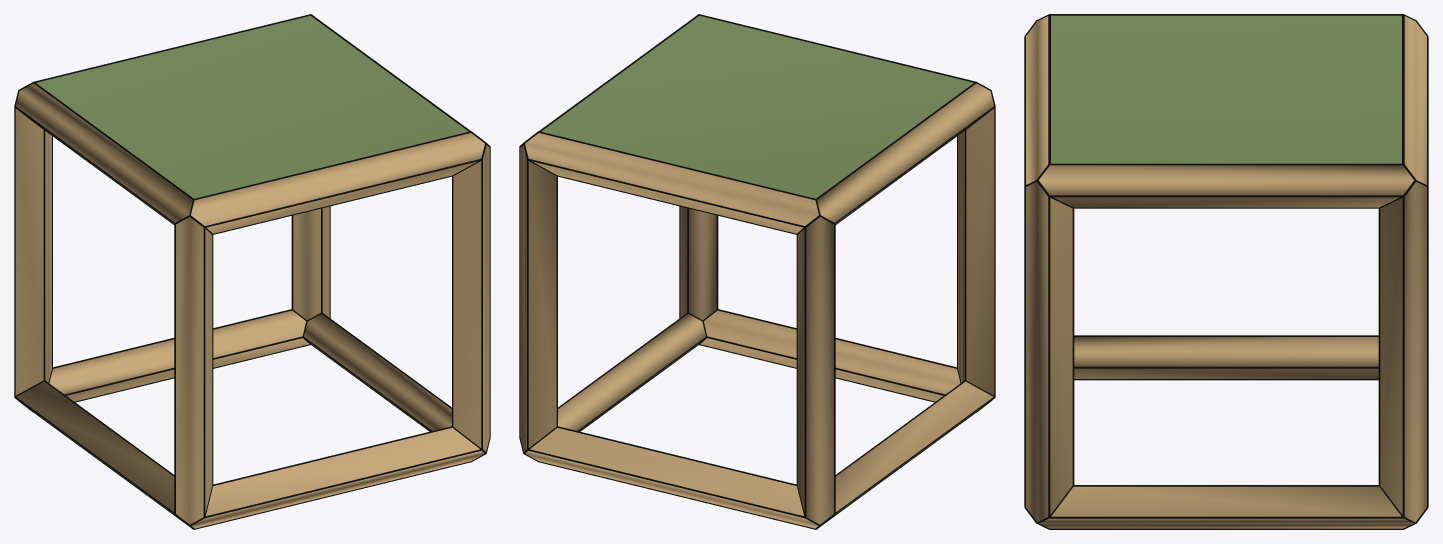
The model's file is table-basse-petite.glb.
The picture shows the model from 3 angles, left to right: view 1: azimuth 30°, elevation 25°; view 2: azimuth 150°, elevation 25°; view 3: azimuth 270°, elevation 25°; orthographic projection. The views are drawn at different scales.
Parts seen in each view (by area): view 1: panneau-dessus_exterieur, arete-Z0, arete-X2, arete-Z1, arete-X0, arete-Z2, arete-X1, arete-Y2, arete-Y0, arete-Y1, arete-Z3, arete-wire-Z0 (+10 smaller); view 2: panneau-dessus_exterieur, arete-Z2, arete-X3, arete-Z3, arete-X1, arete-Z0, arete-X0, arete-Y2, arete-Y0, arete-Y1, arete-Z1, arete-wire-Z2 (+10 smaller); view 3: panneau-dessus_exterieur, arete-Y3, arete-Z1, arete-Z3, arete-Y1, arete-Y0, arete-X2, arete-X3, arete-wire-Y3, arete-wire-Y1, arete-wire-Z1, arete-wire-Z3 (+4 smaller).
Boxes of the visible parts, box(x1,y1,x2,y2) form: panneau-dessus_exterieur: box(36, 15, 468, 198); arete-Z0: box(176, 217, 212, 524); arete-X2: box(191, 133, 484, 233); arete-Z1: box(453, 145, 489, 451); arete-X0: box(191, 427, 484, 528); arete-Z2: box(15, 108, 51, 395); arete-X1: box(49, 310, 309, 401); arete-Y2: box(16, 83, 192, 223); arete-Y0: box(16, 381, 174, 514); arete-Y1: box(304, 314, 451, 431); arete-Z3: box(293, 206, 329, 320); arete-wire-Z0: box(174, 215, 213, 517); panneau-dessus_exterieur: box(541, 15, 973, 198); arete-Z2: box(797, 217, 833, 524); arete-X3: box(525, 133, 818, 233); arete-Z3: box(520, 145, 556, 451); arete-X1: box(525, 427, 818, 528); arete-Z0: box(958, 108, 994, 395); arete-X0: box(700, 310, 960, 401); arete-Y2: box(817, 83, 993, 223); arete-Y0: box(835, 381, 993, 514); arete-Y1: box(558, 314, 705, 431); arete-Z1: box(680, 206, 716, 320); arete-wire-Z2: box(796, 215, 835, 517); panneau-dessus_exterieur: box(1051, 15, 1401, 163); arete-Y3: box(1038, 165, 1414, 207); arete-Z1: box(1026, 182, 1072, 522); arete-Z3: box(1380, 182, 1426, 522); arete-Y1: box(1039, 486, 1413, 528); arete-Y0: box(1074, 337, 1378, 378); arete-X2: box(1026, 16, 1048, 184); arete-X3: box(1404, 16, 1426, 184); arete-wire-Y3: box(1049, 163, 1416, 208); arete-wire-Y1: box(1037, 485, 1415, 529); arete-wire-Z1: box(1024, 180, 1074, 517); arete-wire-Z3: box(1378, 186, 1428, 517).
Bounding box in the file's own units: 0.4809 × 0.4809 × 0.4809.
